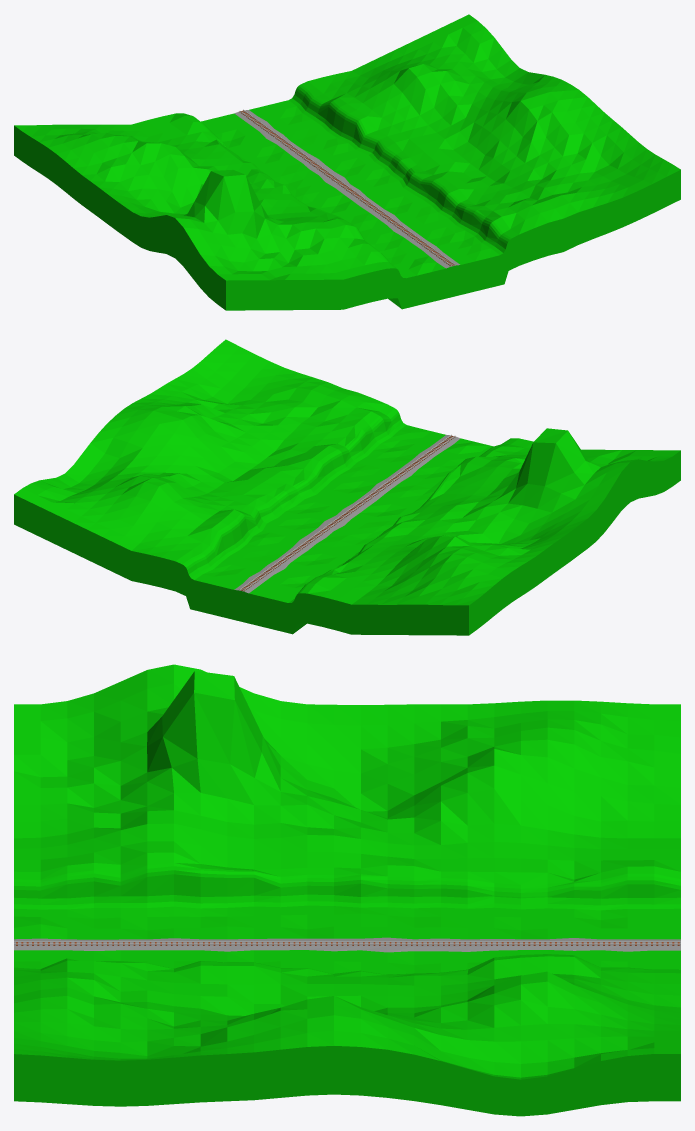
The model's file is Grasslands.fbx.
The picture shows the model from 3 angles, top to bottom: view 1: azimuth 30°, elevation 25°; view 2: azimuth 150°, elevation 25°; view 3: azimuth 270°, elevation 25°; orthographic projection. The views are drawn at different scales.
Parts seen in each view (by area): view 1: Cube_3_3, Cube; view 2: Cube_3_3, Cube; view 3: Cube_3_3, Cube.
Boxes of the visible parts, left/top/right/bottom form: Cube_3_3: left=14, top=14, right=680, bottom=310; Cube: left=240, top=109, right=455, bottom=266; Cube_3_3: left=14, top=339, right=680, bottom=635; Cube: left=239, top=434, right=455, bottom=591; Cube_3_3: left=14, top=664, right=680, bottom=1116; Cube: left=14, top=941, right=680, bottom=944.
Size of the model in its own units: 3100 by 783 by 2500.
